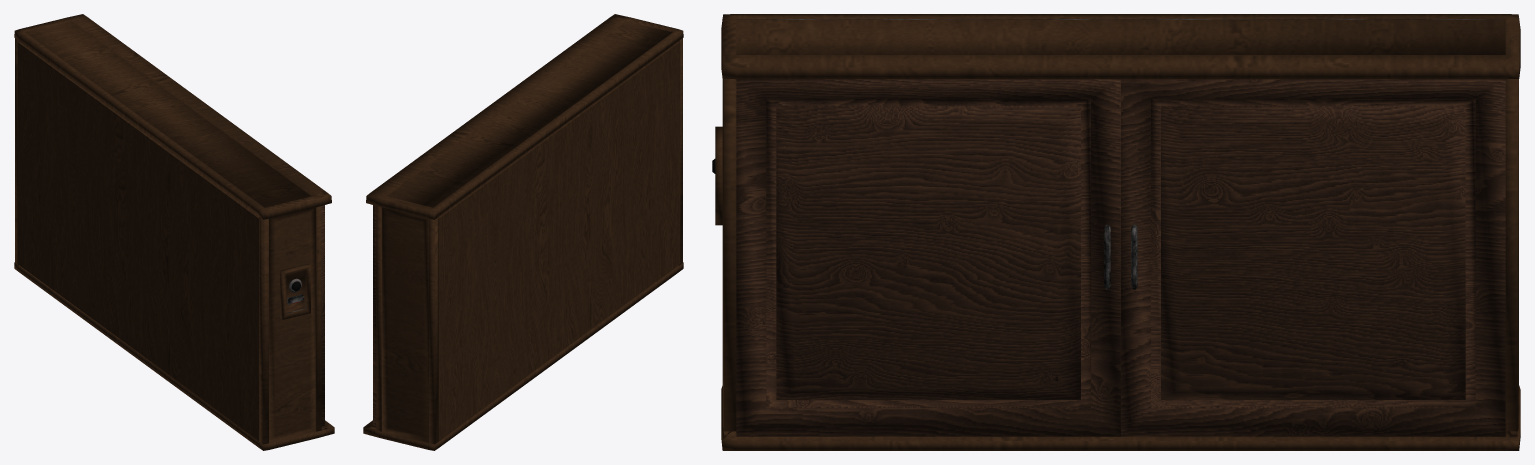
The model's file is szafka_pop_main.glb.
The picture shows the model from 3 angles, left to right: view 1: azimuth 30°, elevation 25°; view 2: azimuth 150°, elevation 25°; view 3: azimuth 270°, elevation 25°; orthographic projection. The views are drawn at different scales.
Visible parts, largest first — view 1: Plane.010, Cube.001, Plane, Left_Door; view 2: Plane.010, Cube.001, Right_Door; view 3: Left_Door, Right_Door, Cube.001, Plane.
Part boxes in pixels (x1,y1,x2,y2): Plane.010: [17, 42, 259, 440]; Cube.001: [14, 14, 334, 450]; Plane: [280, 263, 310, 319]; Left_Door: [321, 205, 324, 426]; Plane.010: [438, 42, 680, 440]; Cube.001: [363, 14, 683, 450]; Right_Door: [373, 205, 376, 426]; Left_Door: [736, 79, 1120, 436]; Right_Door: [1121, 79, 1505, 436]; Cube.001: [721, 14, 1520, 450]; Plane: [715, 126, 722, 225].
Bounding box in the file's own units: 0.4322 × 1.35 × 2.58.
Materials: 2 (2 with a texture image).
